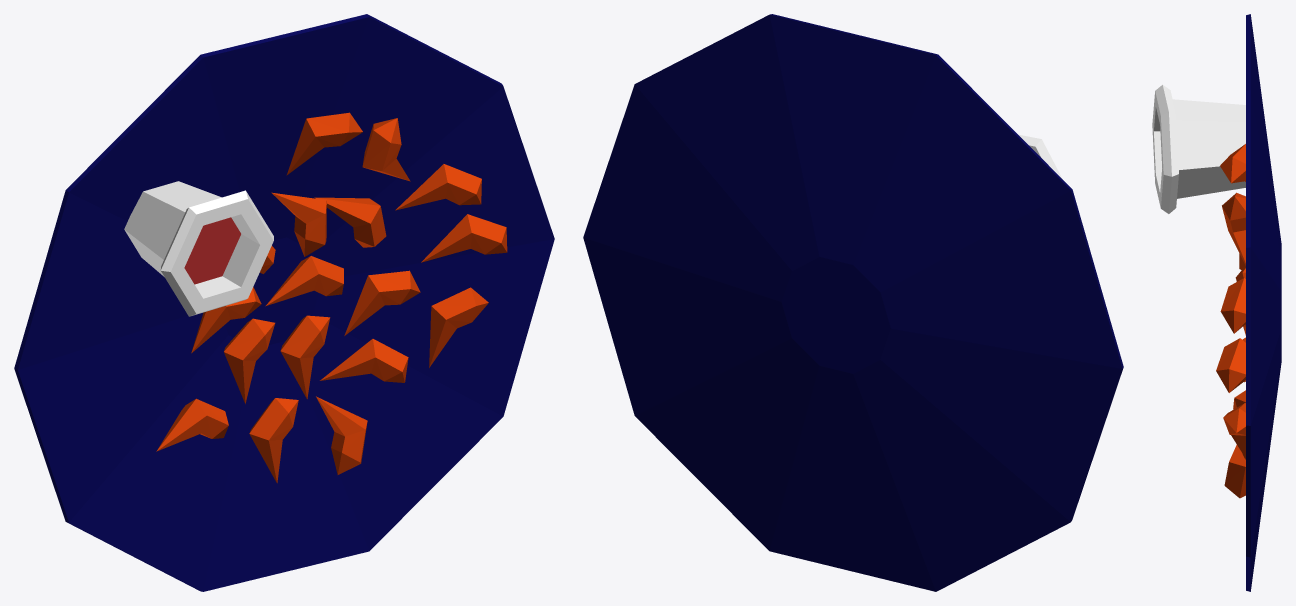
3 views of the same model, side by side, from view 1: azimuth 30°, elevation 25°; view 2: azimuth 150°, elevation 25°; view 3: azimuth 270°, elevation 25° (orthographic). The views are drawn at different scales.
Visible parts, largest first — view 1: d food; view 2: d food; view 3: d food.
Boxes of the visible parts, x1,y1,x2,y2 form: d food: [14, 14, 554, 591]; d food: [583, 14, 1123, 591]; d food: [1152, 14, 1281, 591].
Bounding box in the file's own units: 17.08 × 16.24 × 3.79.
